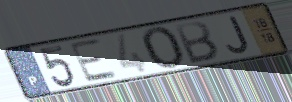4: (117, 32, 151, 75)
5: (38, 44, 76, 88)
B: (173, 19, 222, 65)
E: (66, 37, 121, 85)
J: (225, 14, 252, 55)
O: (140, 26, 188, 71)
